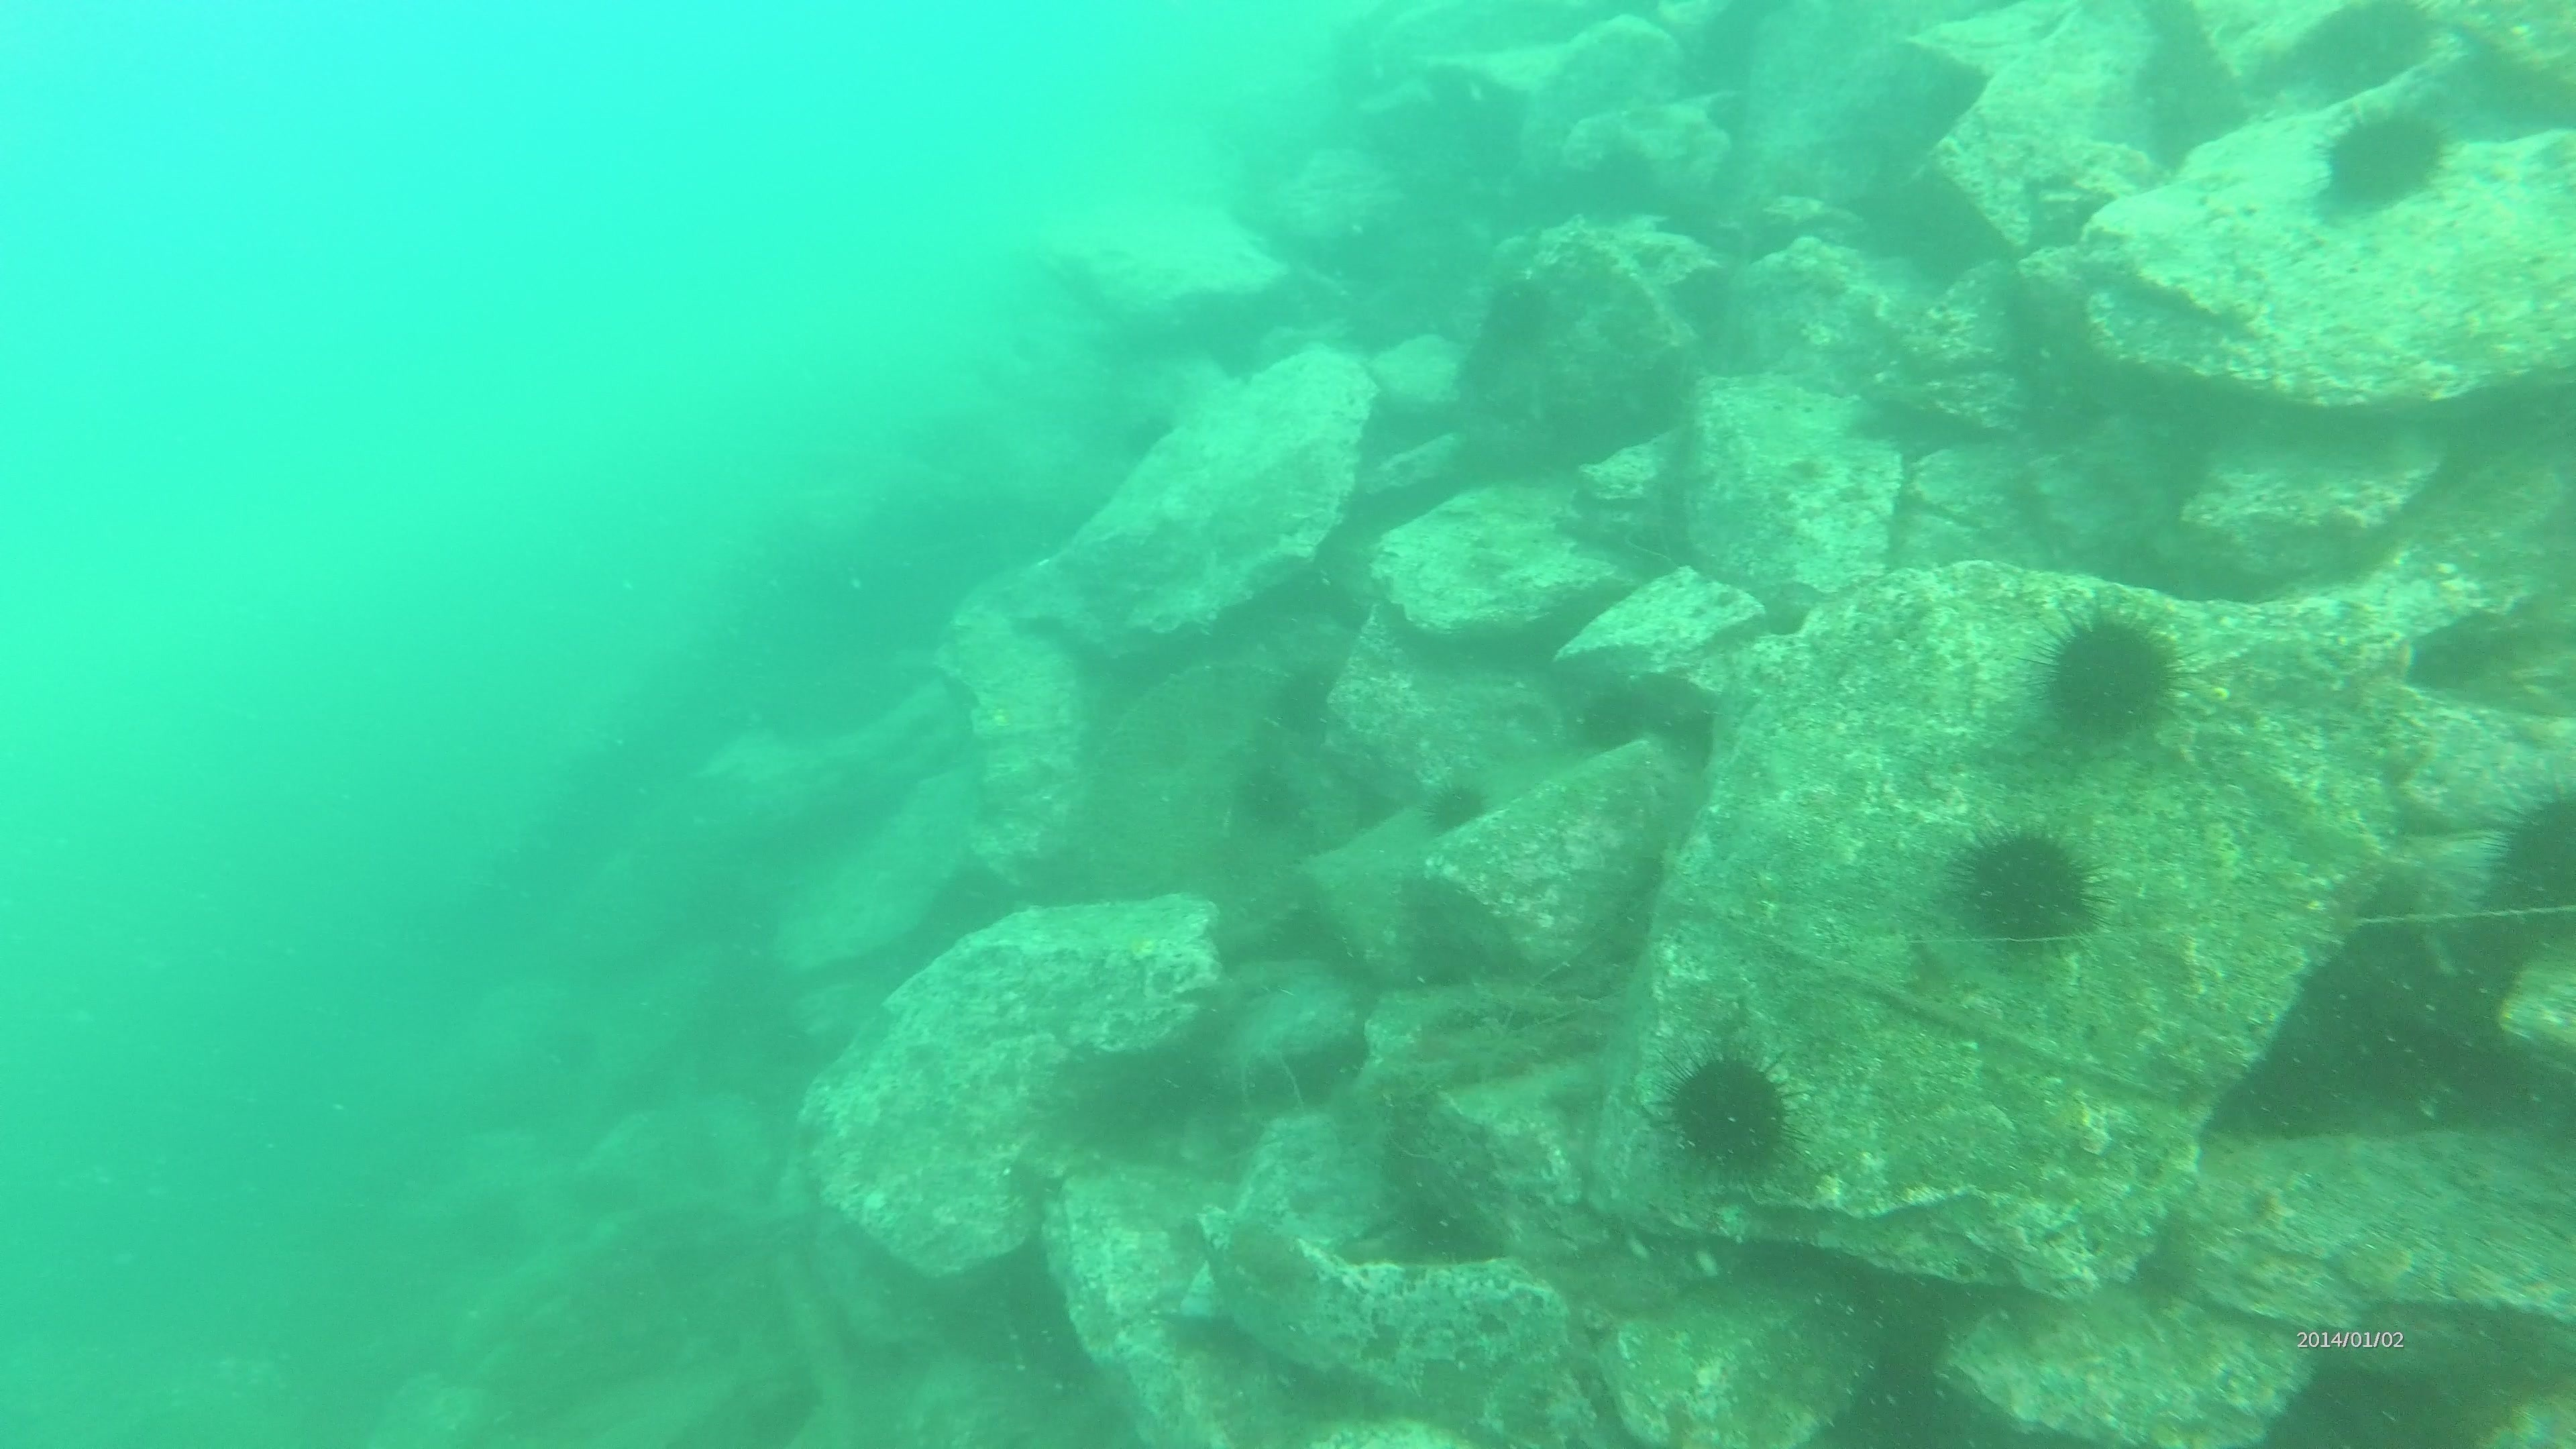echinus: (2029, 602, 2192, 748), (1656, 1042, 1805, 1189), (2473, 771, 2576, 982), (1946, 817, 2104, 950), (2309, 99, 2457, 223), (1260, 655, 1345, 745), (1415, 768, 1497, 840), (1578, 679, 1654, 750), (1238, 759, 1311, 830)
